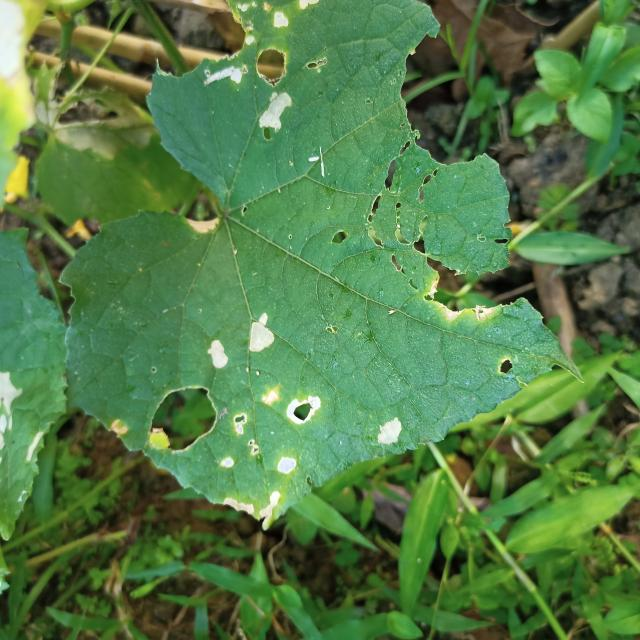disease_cucumber: (215, 382, 409, 527), (195, 3, 330, 144), (196, 312, 280, 377)
